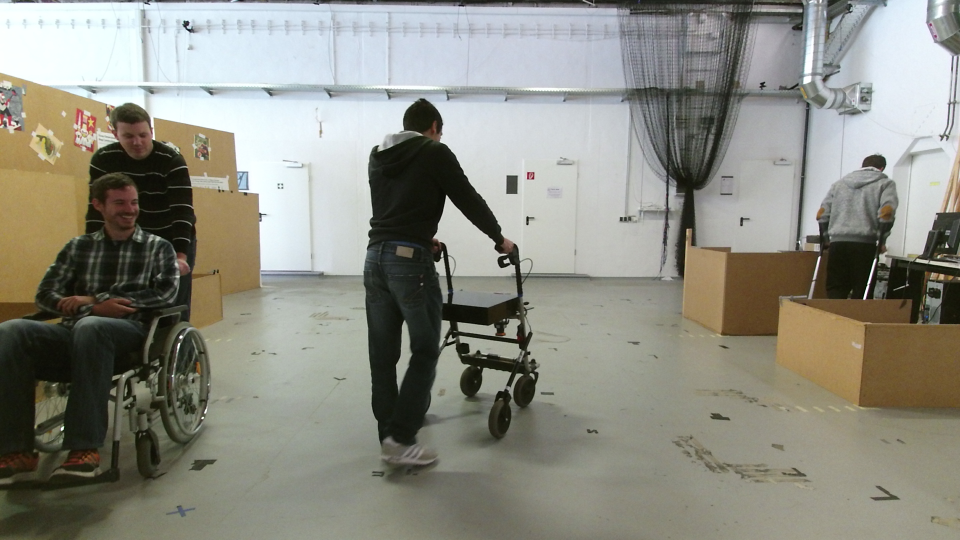crutches: (801, 148, 901, 349)
